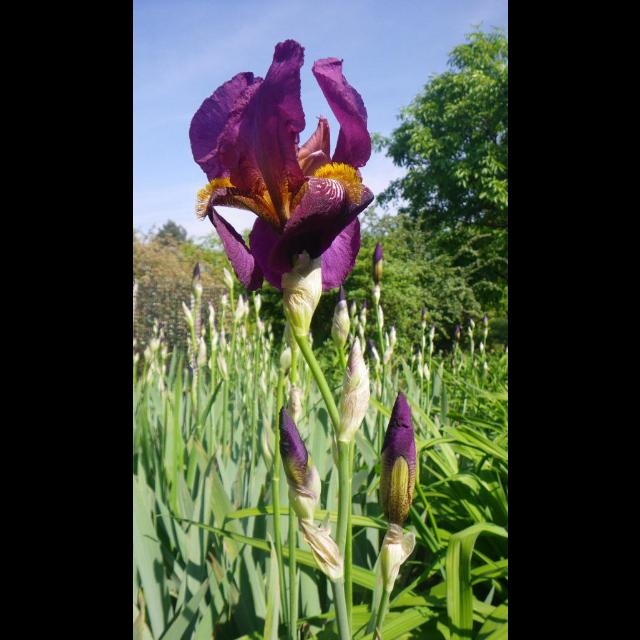Flower: (186, 33, 374, 337)
